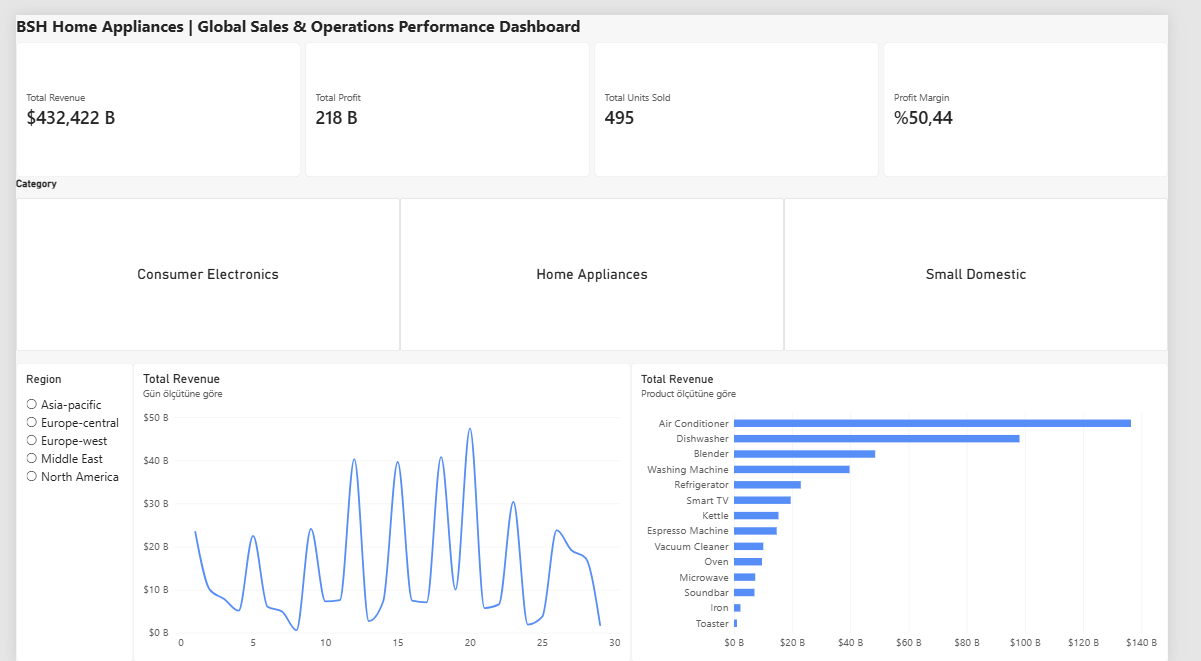

Layout of this report page (visuals, bound fields, positions):
{"tool":"powerbi","page":{"name":"1. sayfa","canvas":[1920,1080],"ordinal":0},"visuals":[{"type":"cardVisual","fields":{"Data":["clean_bsh_sales_data.Total Revenue","clean_bsh_sales_data.Total Profit","clean_bsh_sales_data.Total Units Sold","clean_bsh_sales_data.Profit Margin"]},"box":[0,45,1920,225],"z":0},{"type":"advancedSlicerVisual","fields":{"Values":["clean_bsh_sales_data.Category"]},"box":[0,270,1920,290],"z":1000},{"type":"listSlicer","fields":{"Values":["clean_bsh_sales_data.Region"]},"box":[0,580,195,500],"z":2000},{"type":"lineChart","fields":{"Category":["clean_bsh_sales_data.OrderDate.Varyasyon.Tarih Hiyerarşisi.Yıl","clean_bsh_sales_data.OrderDate.Varyasyon.Tarih Hiyerarşisi.Çeyrek","clean_bsh_sales_data.OrderDate.Varyasyon.Tarih Hiyerarşisi.Ay","clean_bsh_sales_data.OrderDate.Varyasyon.Tarih Hiyerarşisi.Gün"],"Y":["clean_bsh_sales_data.Total Revenue"]},"box":[195,580,830,500],"z":3000},{"type":"barChart","fields":{"Category":["clean_bsh_sales_data.Product"],"Y":["clean_bsh_sales_data.Total Revenue"]},"box":[1025,580,895,500],"z":3001},{"type":"textbox","box":[0,0,960,45],"z":3002}]}

Visuals, with their boxes in screenshot pixels (x1, y1, x2, y2), scaled from the page's 1920x1080 canvas onto the 1201x661 screenshot:
cardVisual - clean_bsh_sales_data.Total Revenue x clean_bsh_sales_data.Total Profit: left=0, top=28, right=1200, bottom=165
advancedSlicerVisual - clean_bsh_sales_data.Category: left=0, top=165, right=1200, bottom=343
listSlicer - clean_bsh_sales_data.Region: left=0, top=355, right=122, bottom=660
lineChart - clean_bsh_sales_data.OrderDate.Varyasyon.Tarih Hiyerarşisi.Yıl x clean_bsh_sales_data.OrderDate.Varyasyon.Tarih Hiyerarşisi.Çeyrek: left=122, top=355, right=641, bottom=660
barChart - clean_bsh_sales_data.Product x clean_bsh_sales_data.Total Revenue: left=641, top=355, right=1200, bottom=660
textbox: left=0, top=0, right=600, bottom=28
